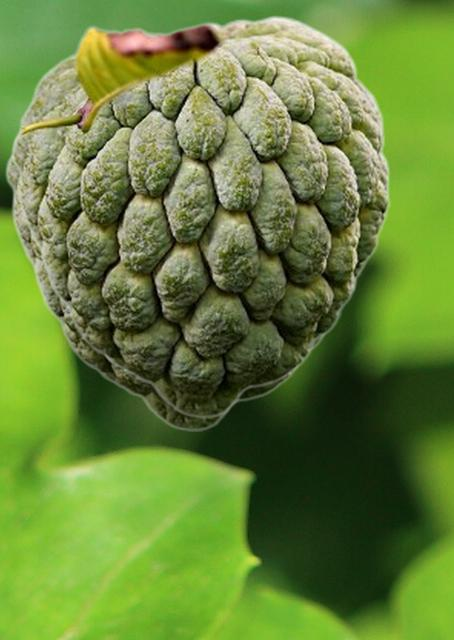atis: (10, 14, 389, 417), (4, 99, 328, 430)
